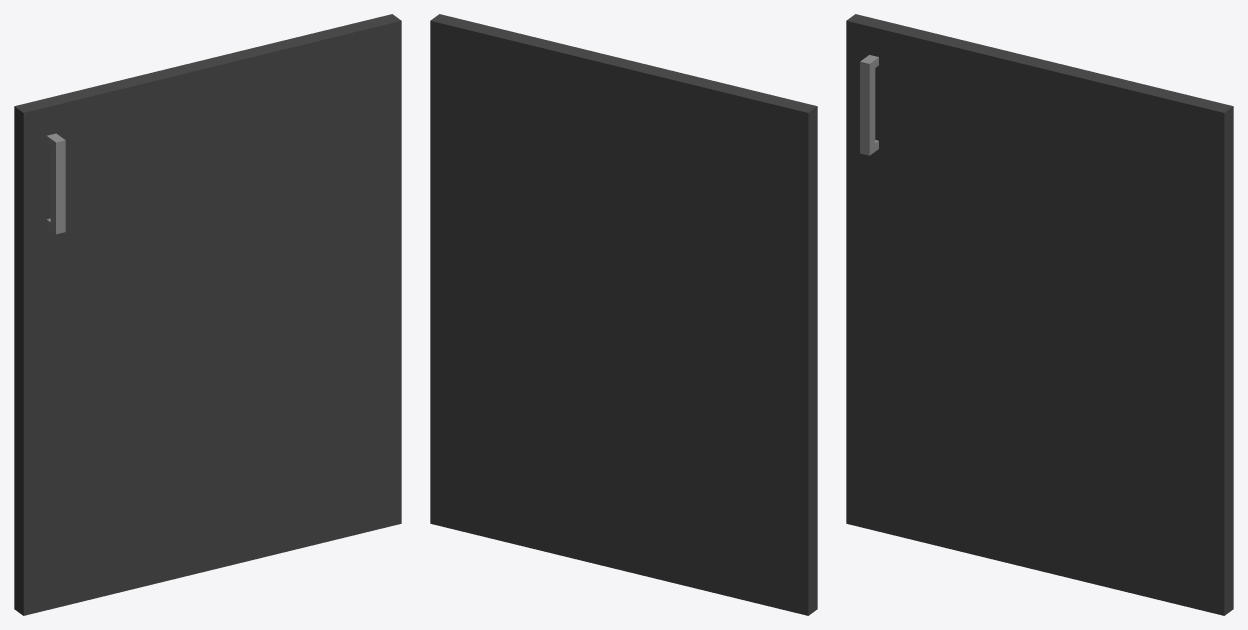
File: Door1_C3_01.fbx
3 renders of one model, left to right at view 1: azimuth 30°, elevation 25°; view 2: azimuth 150°, elevation 25°; view 3: azimuth 330°, elevation 25°, orthographic.
Parts seen in each view (by area): view 1: Door1_C3_01; view 2: Door1_C3_01; view 3: Door1_C3_01.
Part boxes in pixels (x1,y1,x2,y2): Door1_C3_01: (14, 14, 401, 615); Door1_C3_01: (430, 14, 817, 615); Door1_C3_01: (846, 14, 1233, 615).
Bounding box in the file's own units: 59 × 75 × 5.03.
